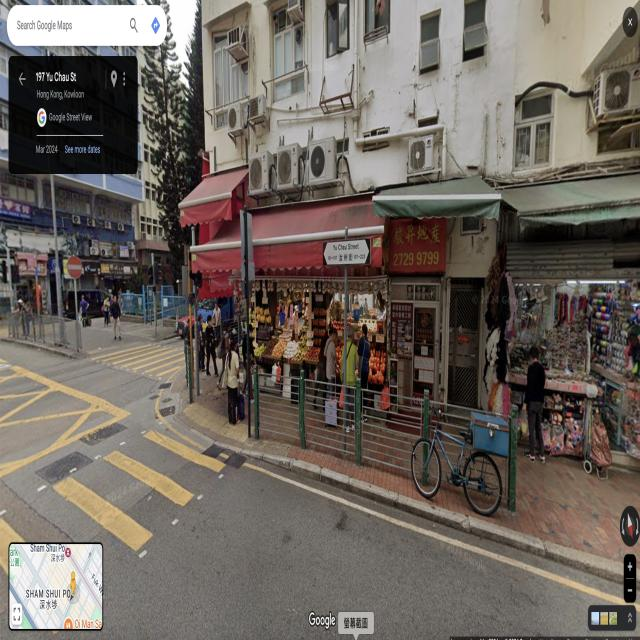Street-Direction-Sign: (323, 239, 370, 266)
